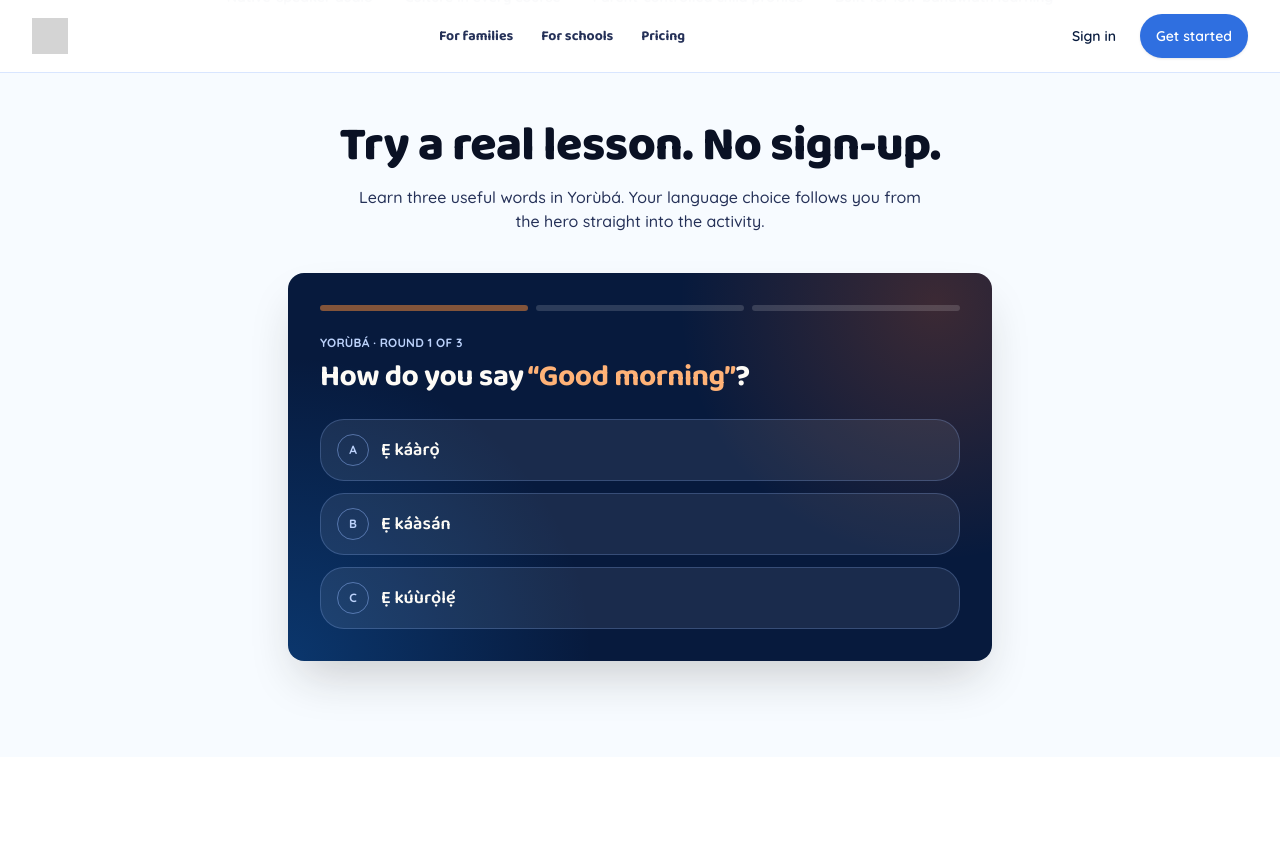
LandingPage › grades a correct answer encouragingly and never says "wrong"
(page scrolled)
Click the button "A Ẹ káàrọ̀" at (353, 450), box x1=320 y1=419 x2=960 y2=481
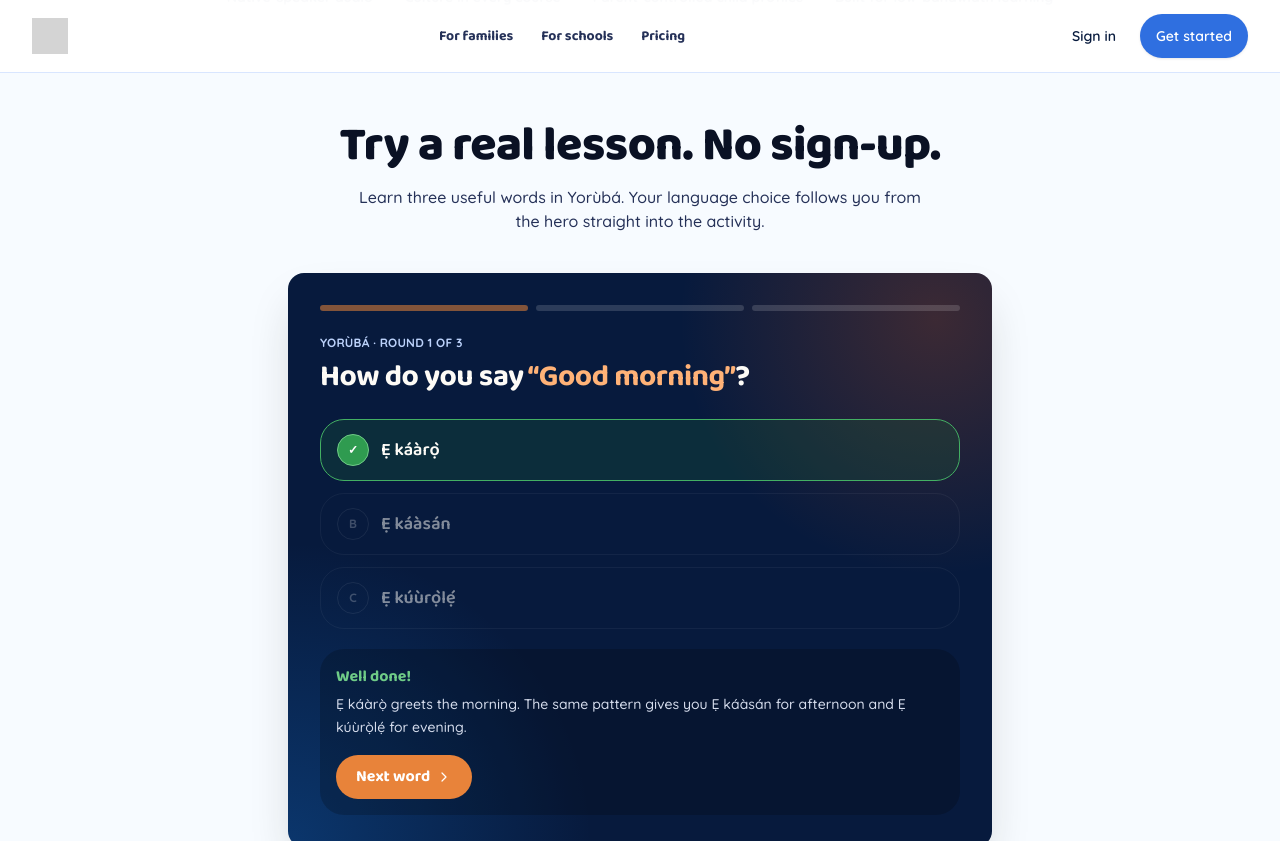
Expected: the text "Well done!" is shown, x1=336 y1=664 x2=411 y2=689
